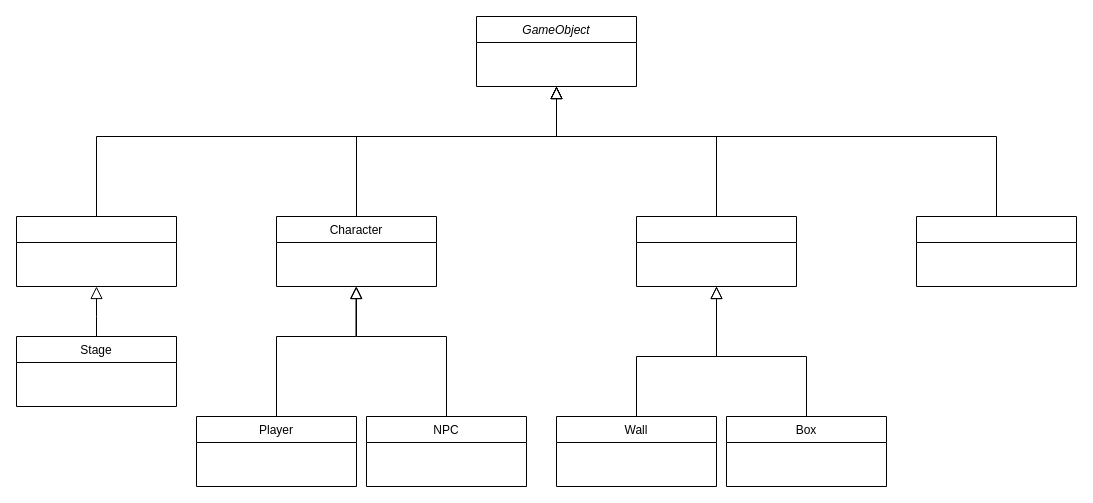
The diagram is 1093 pixels wide and 503 high, and some of its shapes have lost their labels. The shapes that lost their labels are listed below. From the top down, each one's centre as x and y in pixels, then its label:
point (96, 251): Layer
point (716, 251): Obstacle
point (996, 251): Item
